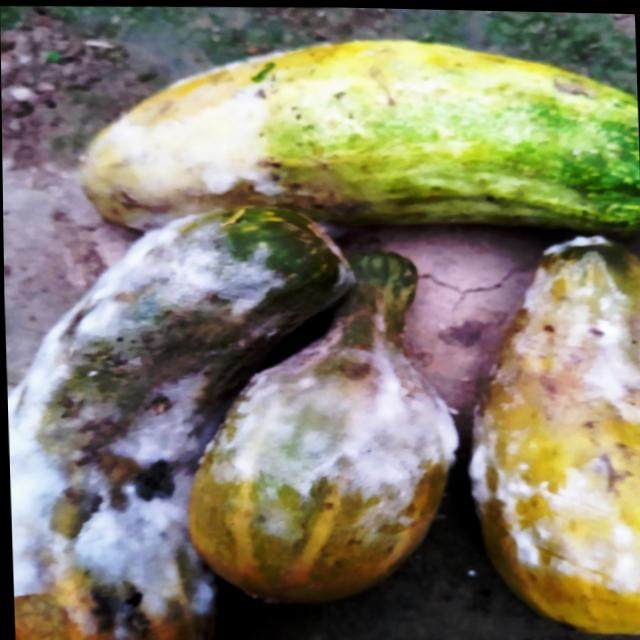Pythium-Fruit-Rot: (2, 205, 288, 640), (463, 240, 640, 595), (212, 300, 461, 521), (76, 48, 304, 234)
